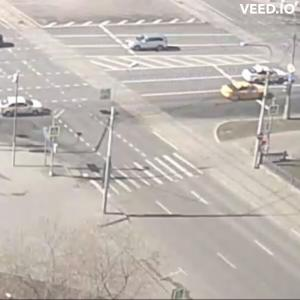car: (243, 66, 294, 86), (2, 98, 49, 118), (225, 83, 267, 104), (130, 36, 168, 53)
